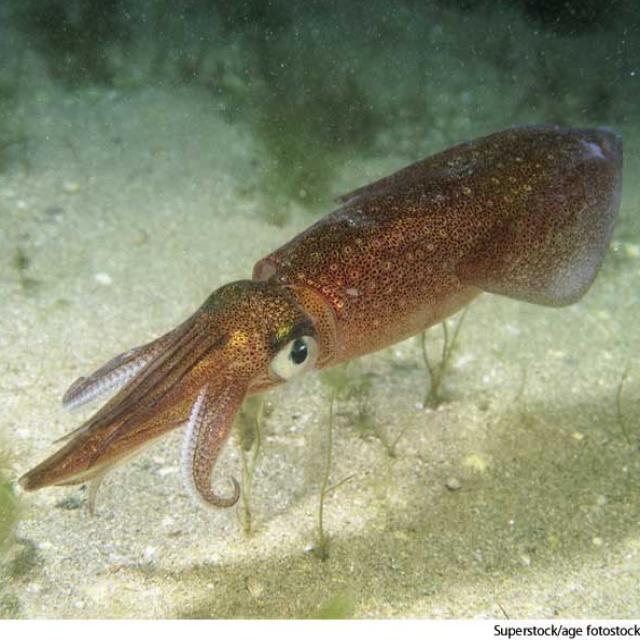SQUID: (10, 102, 632, 514)
